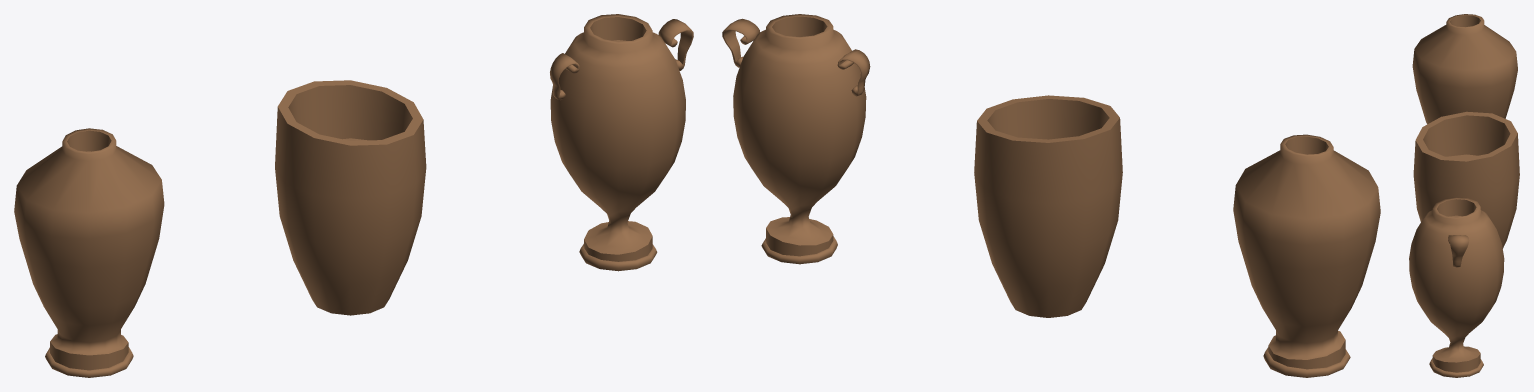
File: vases.fbx
3 views of the same model, side by side, from view 1: azimuth 30°, elevation 25°; view 2: azimuth 150°, elevation 25°; view 3: azimuth 270°, elevation 25° (orthographic). The views are drawn at different scales.
Visible parts, largest first — view 1: Vase 2, Vase 3, Vase 1; view 2: Vase 2, Vase 3, Vase 1; view 3: Vase 1, Vase 2, Vase 3.
Part boxes in pixels (bbox=[...]): Vase 2: bbox=[275, 80, 426, 315]; Vase 3: bbox=[14, 128, 164, 377]; Vase 1: bbox=[550, 14, 693, 271]; Vase 2: bbox=[974, 95, 1122, 317]; Vase 3: bbox=[1233, 134, 1380, 377]; Vase 1: bbox=[722, 14, 870, 264]; Vase 1: bbox=[1409, 197, 1504, 377]; Vase 2: bbox=[1413, 111, 1519, 248]; Vase 3: bbox=[1412, 14, 1517, 124].
Bounding box in the file's own units: 173 × 59.6 × 35.72.
